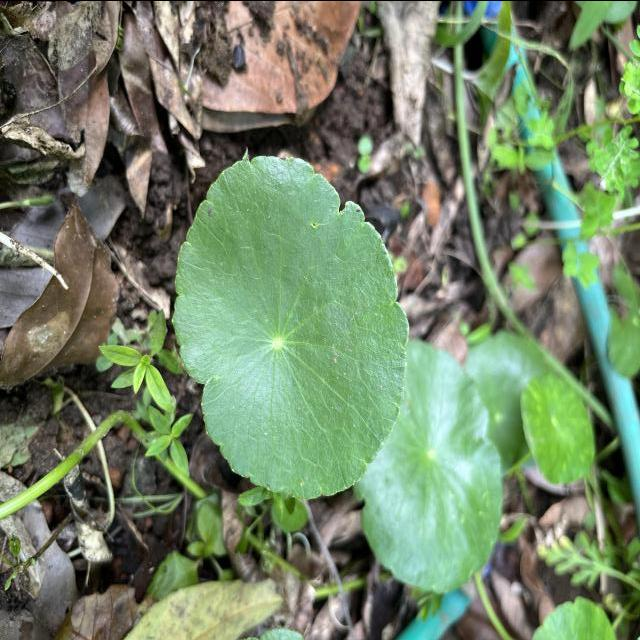Bacopa monnieri: (169, 152, 409, 502)
